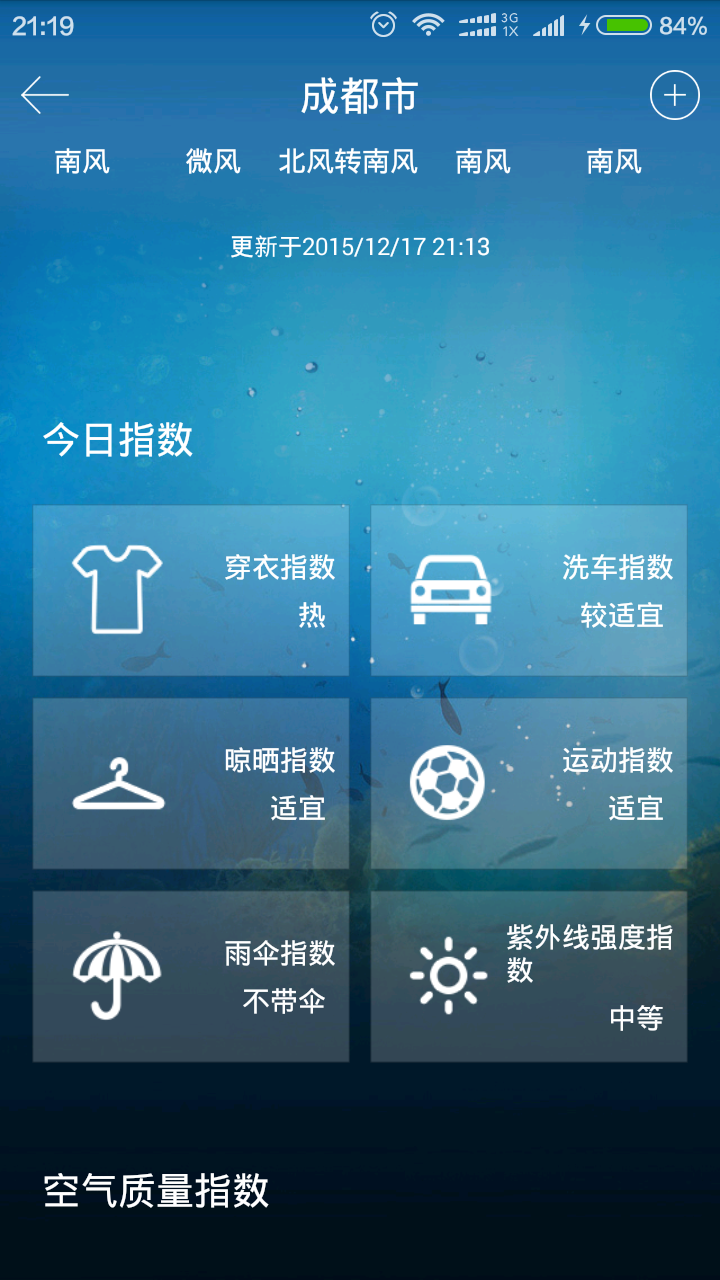textview: (32, 128, 719, 189)
